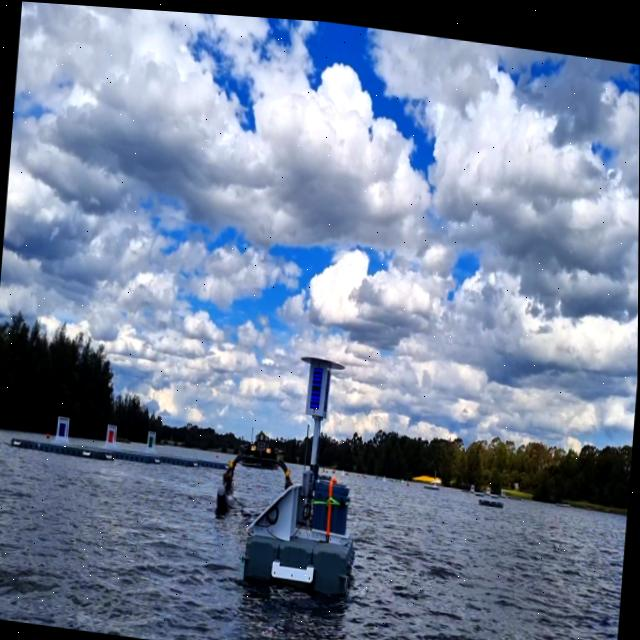led: (308, 359, 326, 411)
